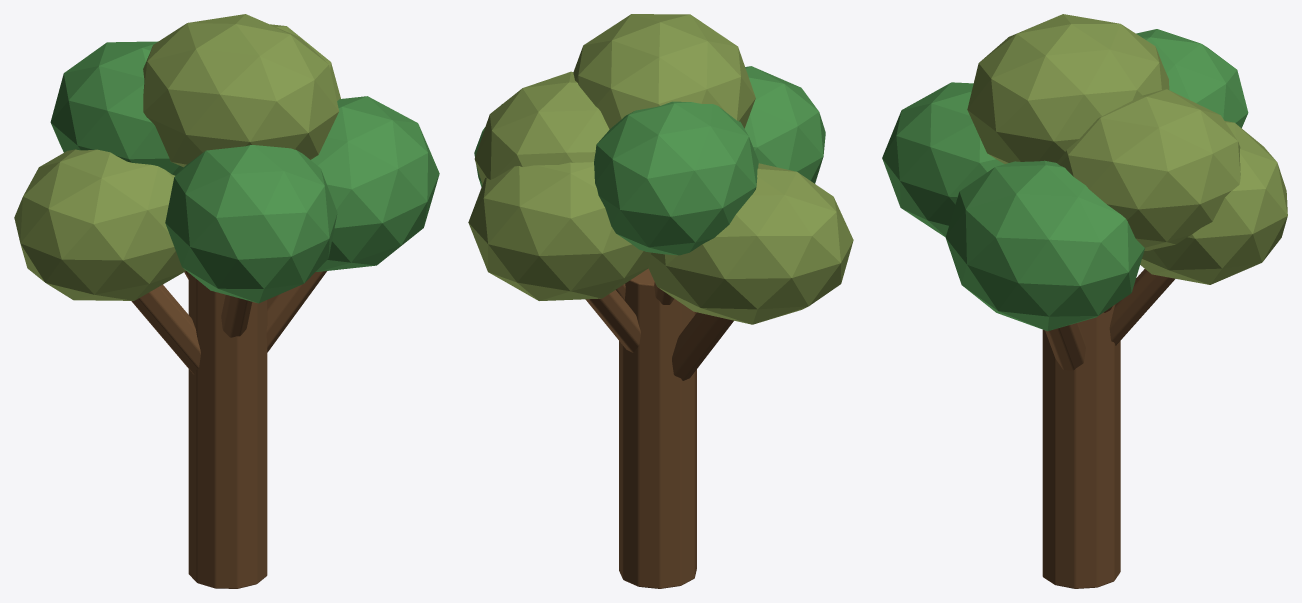
The model's file is broadleaf_ancient_9p5m.glb.
3 views of the same model, side by side, from view 1: azimuth 30°, elevation 25°; view 2: azimuth 150°, elevation 25°; view 3: azimuth 270°, elevation 25° (orthographic).
Visible parts, largest first — view 1: broadleaf_ancient_canopy_07, broadleaf_ancient_trunk, broadleaf_ancient_canopy_04, broadleaf_ancient_canopy_01, broadleaf_ancient_canopy_02, broadleaf_ancient_canopy_06, broadleaf_ancient_branch_01, broadleaf_ancient_branch_02, broadleaf_ancient_branch_04; view 2: broadleaf_ancient_trunk, broadleaf_ancient_canopy_06, broadleaf_ancient_canopy_01, broadleaf_ancient_canopy_03, broadleaf_ancient_canopy_07, broadleaf_ancient_canopy_05, broadleaf_ancient_canopy_04, broadleaf_ancient_branch_01, broadleaf_ancient_branch_03; view 3: broadleaf_ancient_canopy_02, broadleaf_ancient_canopy_07, broadleaf_ancient_trunk, broadleaf_ancient_canopy_05, broadleaf_ancient_canopy_04, broadleaf_ancient_canopy_03, broadleaf_ancient_canopy_06, broadleaf_ancient_branch_03, broadleaf_ancient_branch_02.
Part boxes in pixels (<box>): broadleaf_ancient_canopy_07: <box>143,14,339,167</box>; broadleaf_ancient_trunk: <box>188,273,267,588</box>; broadleaf_ancient_canopy_04: <box>165,145,337,303</box>; broadleaf_ancient_canopy_01: <box>14,149,185,300</box>; broadleaf_ancient_canopy_02: <box>311,96,439,271</box>; broadleaf_ancient_canopy_06: <box>50,41,183,175</box>; broadleaf_ancient_branch_01: <box>131,284,200,374</box>; broadleaf_ancient_branch_02: <box>266,271,326,352</box>; broadleaf_ancient_branch_04: <box>221,295,252,337</box>; broadleaf_ancient_trunk: <box>619,268,696,588</box>; broadleaf_ancient_canopy_06: <box>594,101,758,255</box>; broadleaf_ancient_canopy_01: <box>648,163,853,324</box>; broadleaf_ancient_canopy_03: <box>468,162,650,300</box>; broadleaf_ancient_canopy_07: <box>573,14,755,129</box>; broadleaf_ancient_canopy_05: <box>474,71,609,184</box>; broadleaf_ancient_canopy_04: <box>744,66,825,183</box>; broadleaf_ancient_branch_01: <box>672,312,733,380</box>; broadleaf_ancient_branch_03: <box>585,290,640,352</box>; broadleaf_ancient_canopy_02: <box>945,160,1144,331</box>; broadleaf_ancient_canopy_07: <box>967,14,1169,163</box>; broadleaf_ancient_trunk: <box>1042,304,1120,588</box>; broadleaf_ancient_canopy_05: <box>1057,89,1240,250</box>; broadleaf_ancient_canopy_04: <box>882,82,1004,237</box>; broadleaf_ancient_canopy_03: <box>1140,121,1287,284</box>; broadleaf_ancient_canopy_06: <box>1136,29,1248,128</box>; broadleaf_ancient_branch_03: <box>1109,269,1175,345</box>; broadleaf_ancient_branch_02: <box>1045,323,1085,370</box>.
Size of the model in its own units: 6.85 by 9.45 by 6.32.
